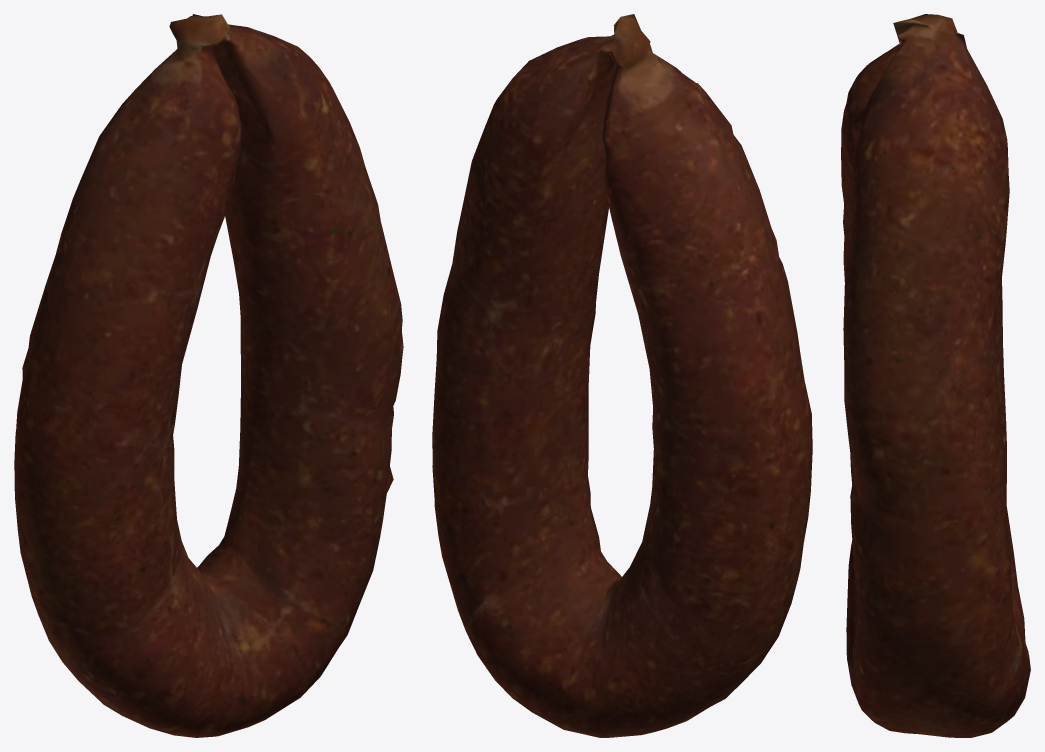
The model's file is sausage_b.glb.
3 renders of one model, left to right at view 1: azimuth 30°, elevation 25°; view 2: azimuth 150°, elevation 25°; view 3: azimuth 270°, elevation 25°, orthographic. The views are drawn at different scales.
Visible parts, largest first — view 1: wi0heax_LOD0_TIER2_000; view 2: wi0heax_LOD0_TIER2_000; view 3: wi0heax_LOD0_TIER2_000.
Part boxes in pixels (x1,y1,x2,y2): wi0heax_LOD0_TIER2_000: (14, 14, 403, 737); wi0heax_LOD0_TIER2_000: (432, 14, 812, 737); wi0heax_LOD0_TIER2_000: (841, 14, 1030, 737).
Size of the model in its own units: 0.1042 by 0.1936 by 0.0474.
1 material, 1 textured.
